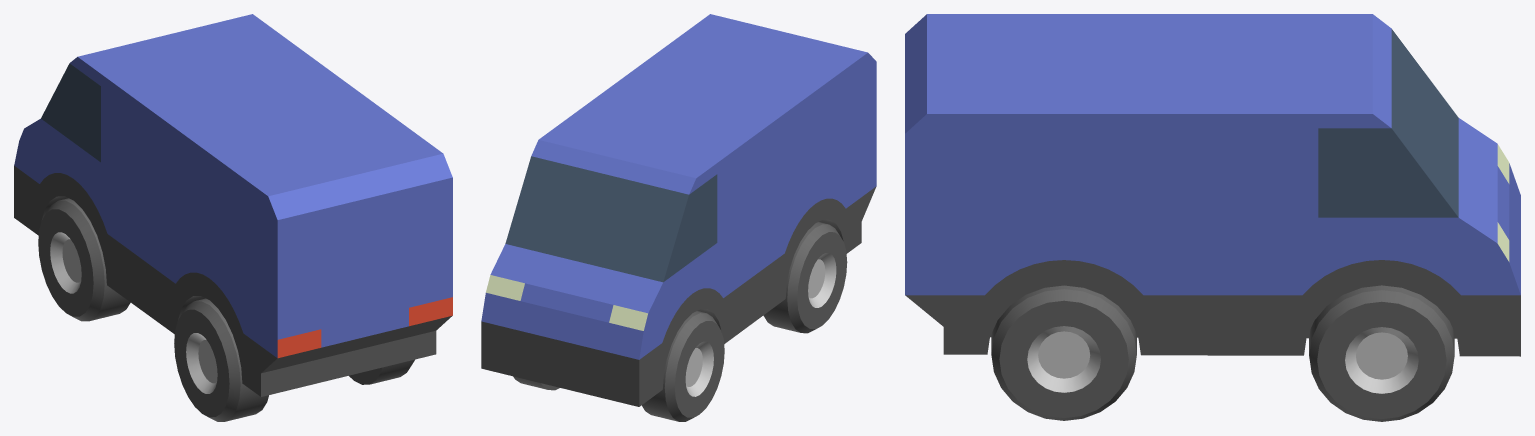
Rendered from carVan.fbx.
3 views of the same model, side by side, from view 1: azimuth 30°, elevation 25°; view 2: azimuth 150°, elevation 25°; view 3: azimuth 270°, elevation 25° (orthographic). The views are drawn at different scales.
Visible parts, largest first — view 1: body 14, wheelBackLeft 14, wheelFrontLeft 14, wheelBackRight 14; view 2: body 14, wheelBackLeft 14, wheelFrontLeft 14; view 3: body 14, wheelFrontRight 14, wheelBackRight 14.
Part boxes in pixels (bbox=[...]): body 14: bbox=[14, 14, 452, 396]; wheelBackLeft 14: bbox=[174, 298, 268, 421]; wheelFrontLeft 14: bbox=[38, 198, 130, 321]; wheelBackRight 14: bbox=[349, 359, 414, 384]; body 14: bbox=[481, 14, 876, 406]; wheelBackLeft 14: bbox=[763, 222, 847, 333]; wheelFrontLeft 14: bbox=[642, 311, 724, 421]; body 14: bbox=[905, 14, 1520, 356]; wheelFrontRight 14: bbox=[1309, 285, 1454, 421]; wheelBackRight 14: bbox=[991, 285, 1136, 420].
Bounding box in the file's own units: 4.95 × 6.57 × 11.85.
